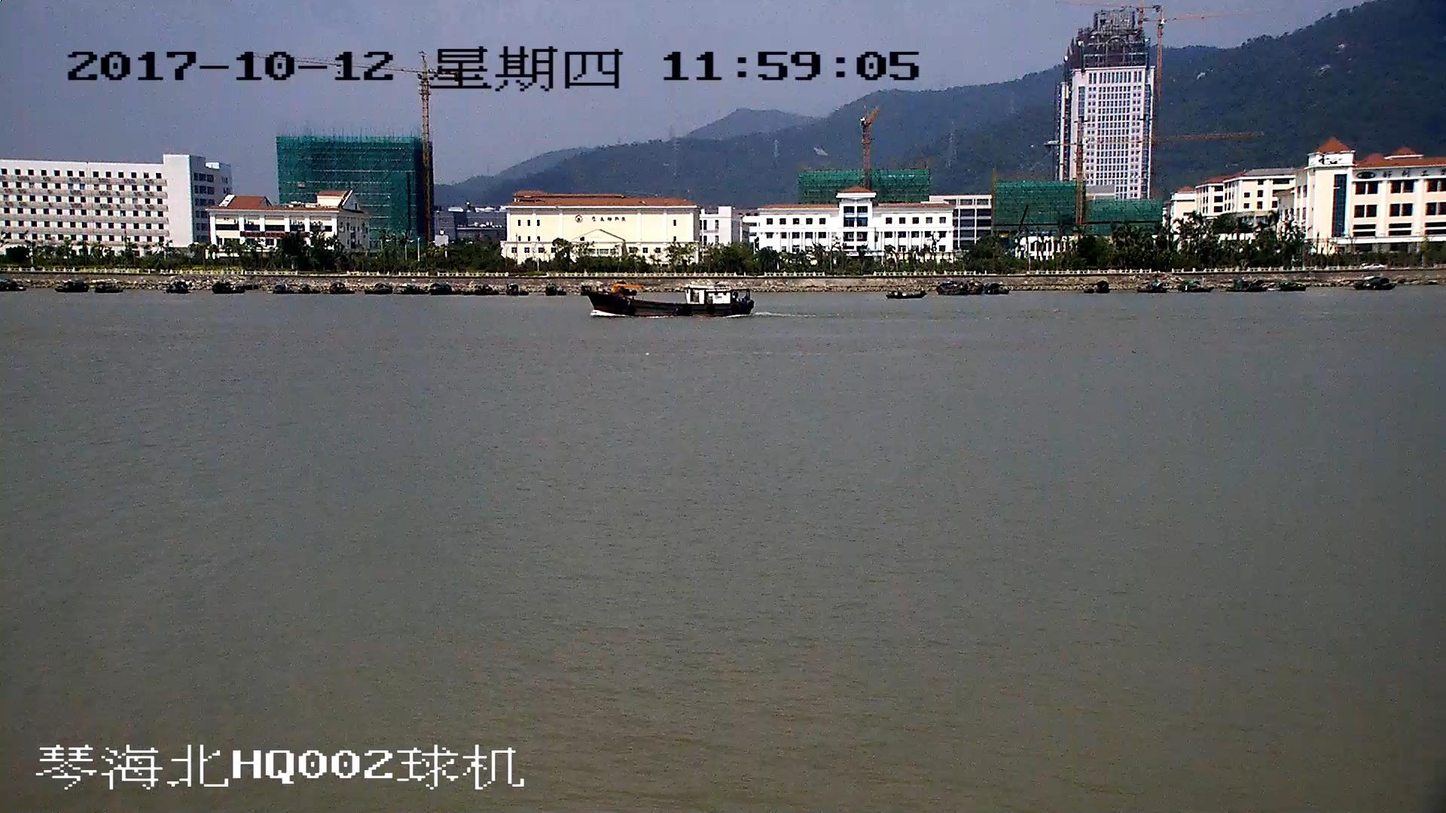fishing boat: (584, 286, 751, 313)
